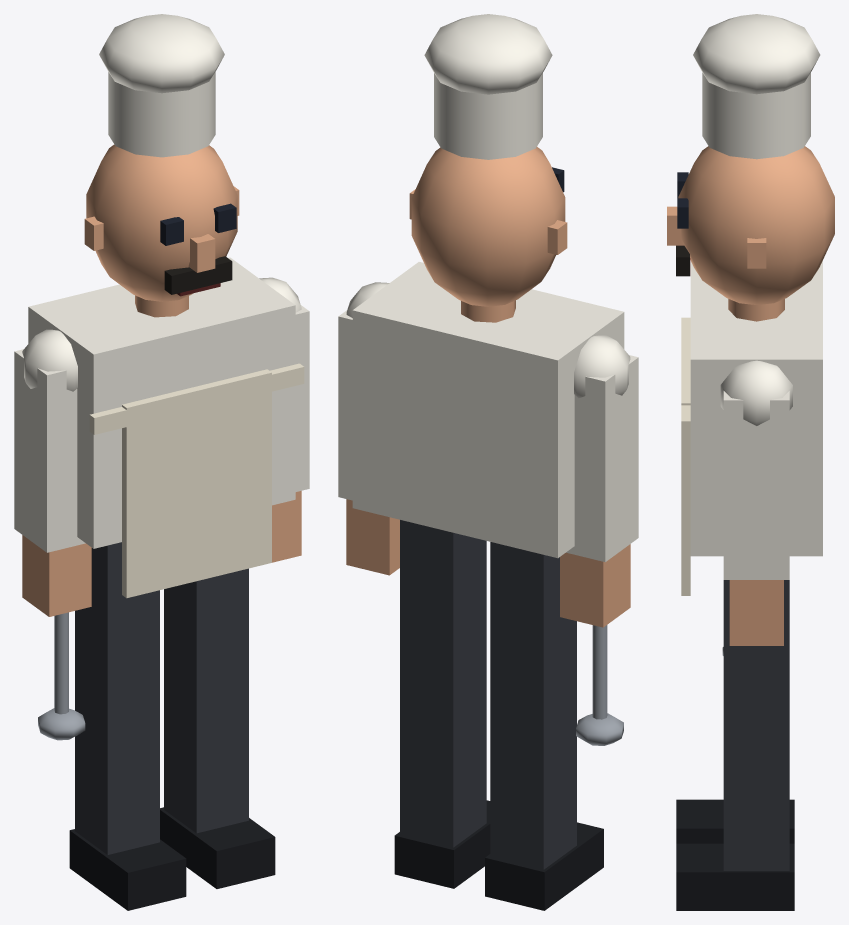
Rendered from kadri.glb.
3 renders of one model, left to right at view 1: azimuth 30°, elevation 25°; view 2: azimuth 150°, elevation 25°; view 3: azimuth 270°, elevation 25°, orthographic.
Parts seen in each view (by area): view 1: Body, LegR, LegL, Head, ArmR, Hat, ArmL, Ladle; view 2: Body, LegR, LegL, Head, ArmR, Hat, ArmL, Ladle; view 3: Body, LegL, Head, ArmL, Hat, LegR.
Part boxes in pixels (left/top/right/bottom): Body: left=28, top=257, right=304, bottom=598; LegR: left=69, top=542, right=186, bottom=910; LegL: left=160, top=568, right=275, bottom=888; Head: left=84, top=144, right=239, bottom=301; ArmR: left=14, top=329, right=91, bottom=616; Hat: left=99, top=14, right=224, bottom=157; ArmL: left=259, top=277, right=309, bottom=562; Ladle: left=38, top=612, right=85, bottom=740; Body: left=352, top=262, right=624, bottom=558; LegR: left=485, top=542, right=603, bottom=910; LegL: left=394, top=520, right=490, bottom=888; Head: left=409, top=147, right=567, bottom=306; ArmR: left=560, top=335, right=638, bottom=627; Hat: left=424, top=14, right=552, bottom=159; ArmL: left=338, top=282, right=399, bottom=575; Ladle: left=576, top=625, right=623, bottom=745; Body: left=681, top=260, right=822, bottom=595; LegL: left=676, top=580, right=794, bottom=910; Head: left=667, top=146, right=834, bottom=304; ArmL: left=720, top=360, right=792, bottom=645; Hat: left=693, top=14, right=820, bottom=159; LegR: left=676, top=799, right=794, bottom=843.
Bounding box in the file's own units: 0.6733 × 1.99 × 0.3557.
